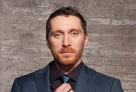male: (42, 7, 90, 72)
